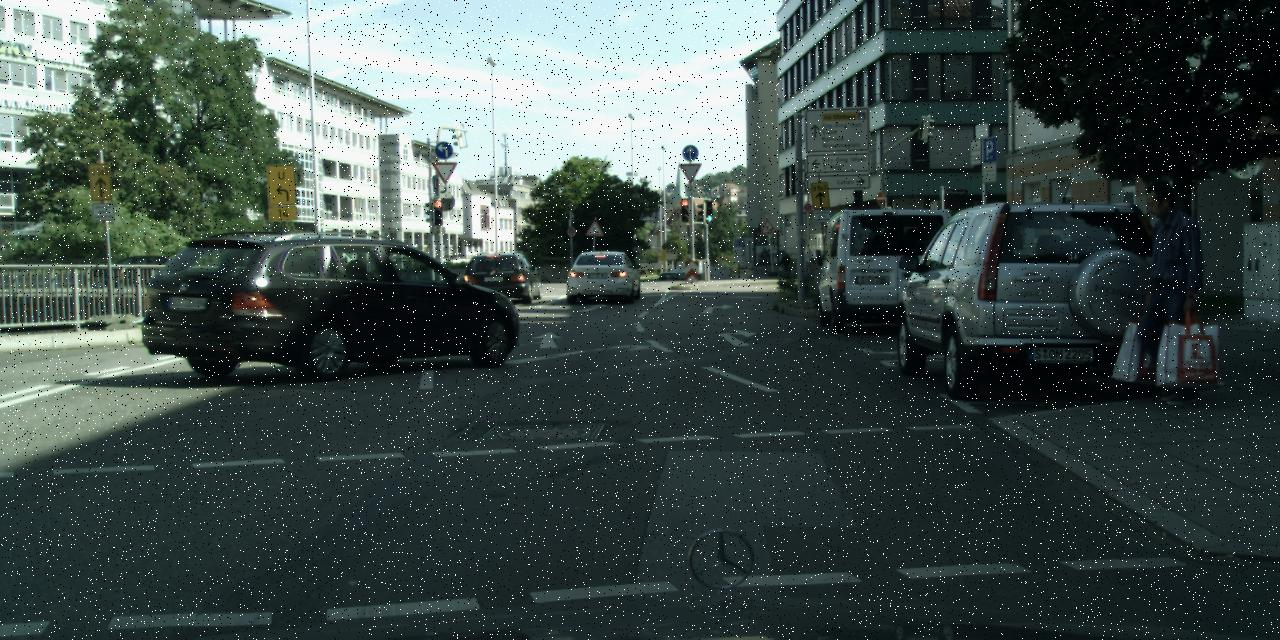ped: (1127, 180, 1217, 402), (780, 251, 791, 278)
